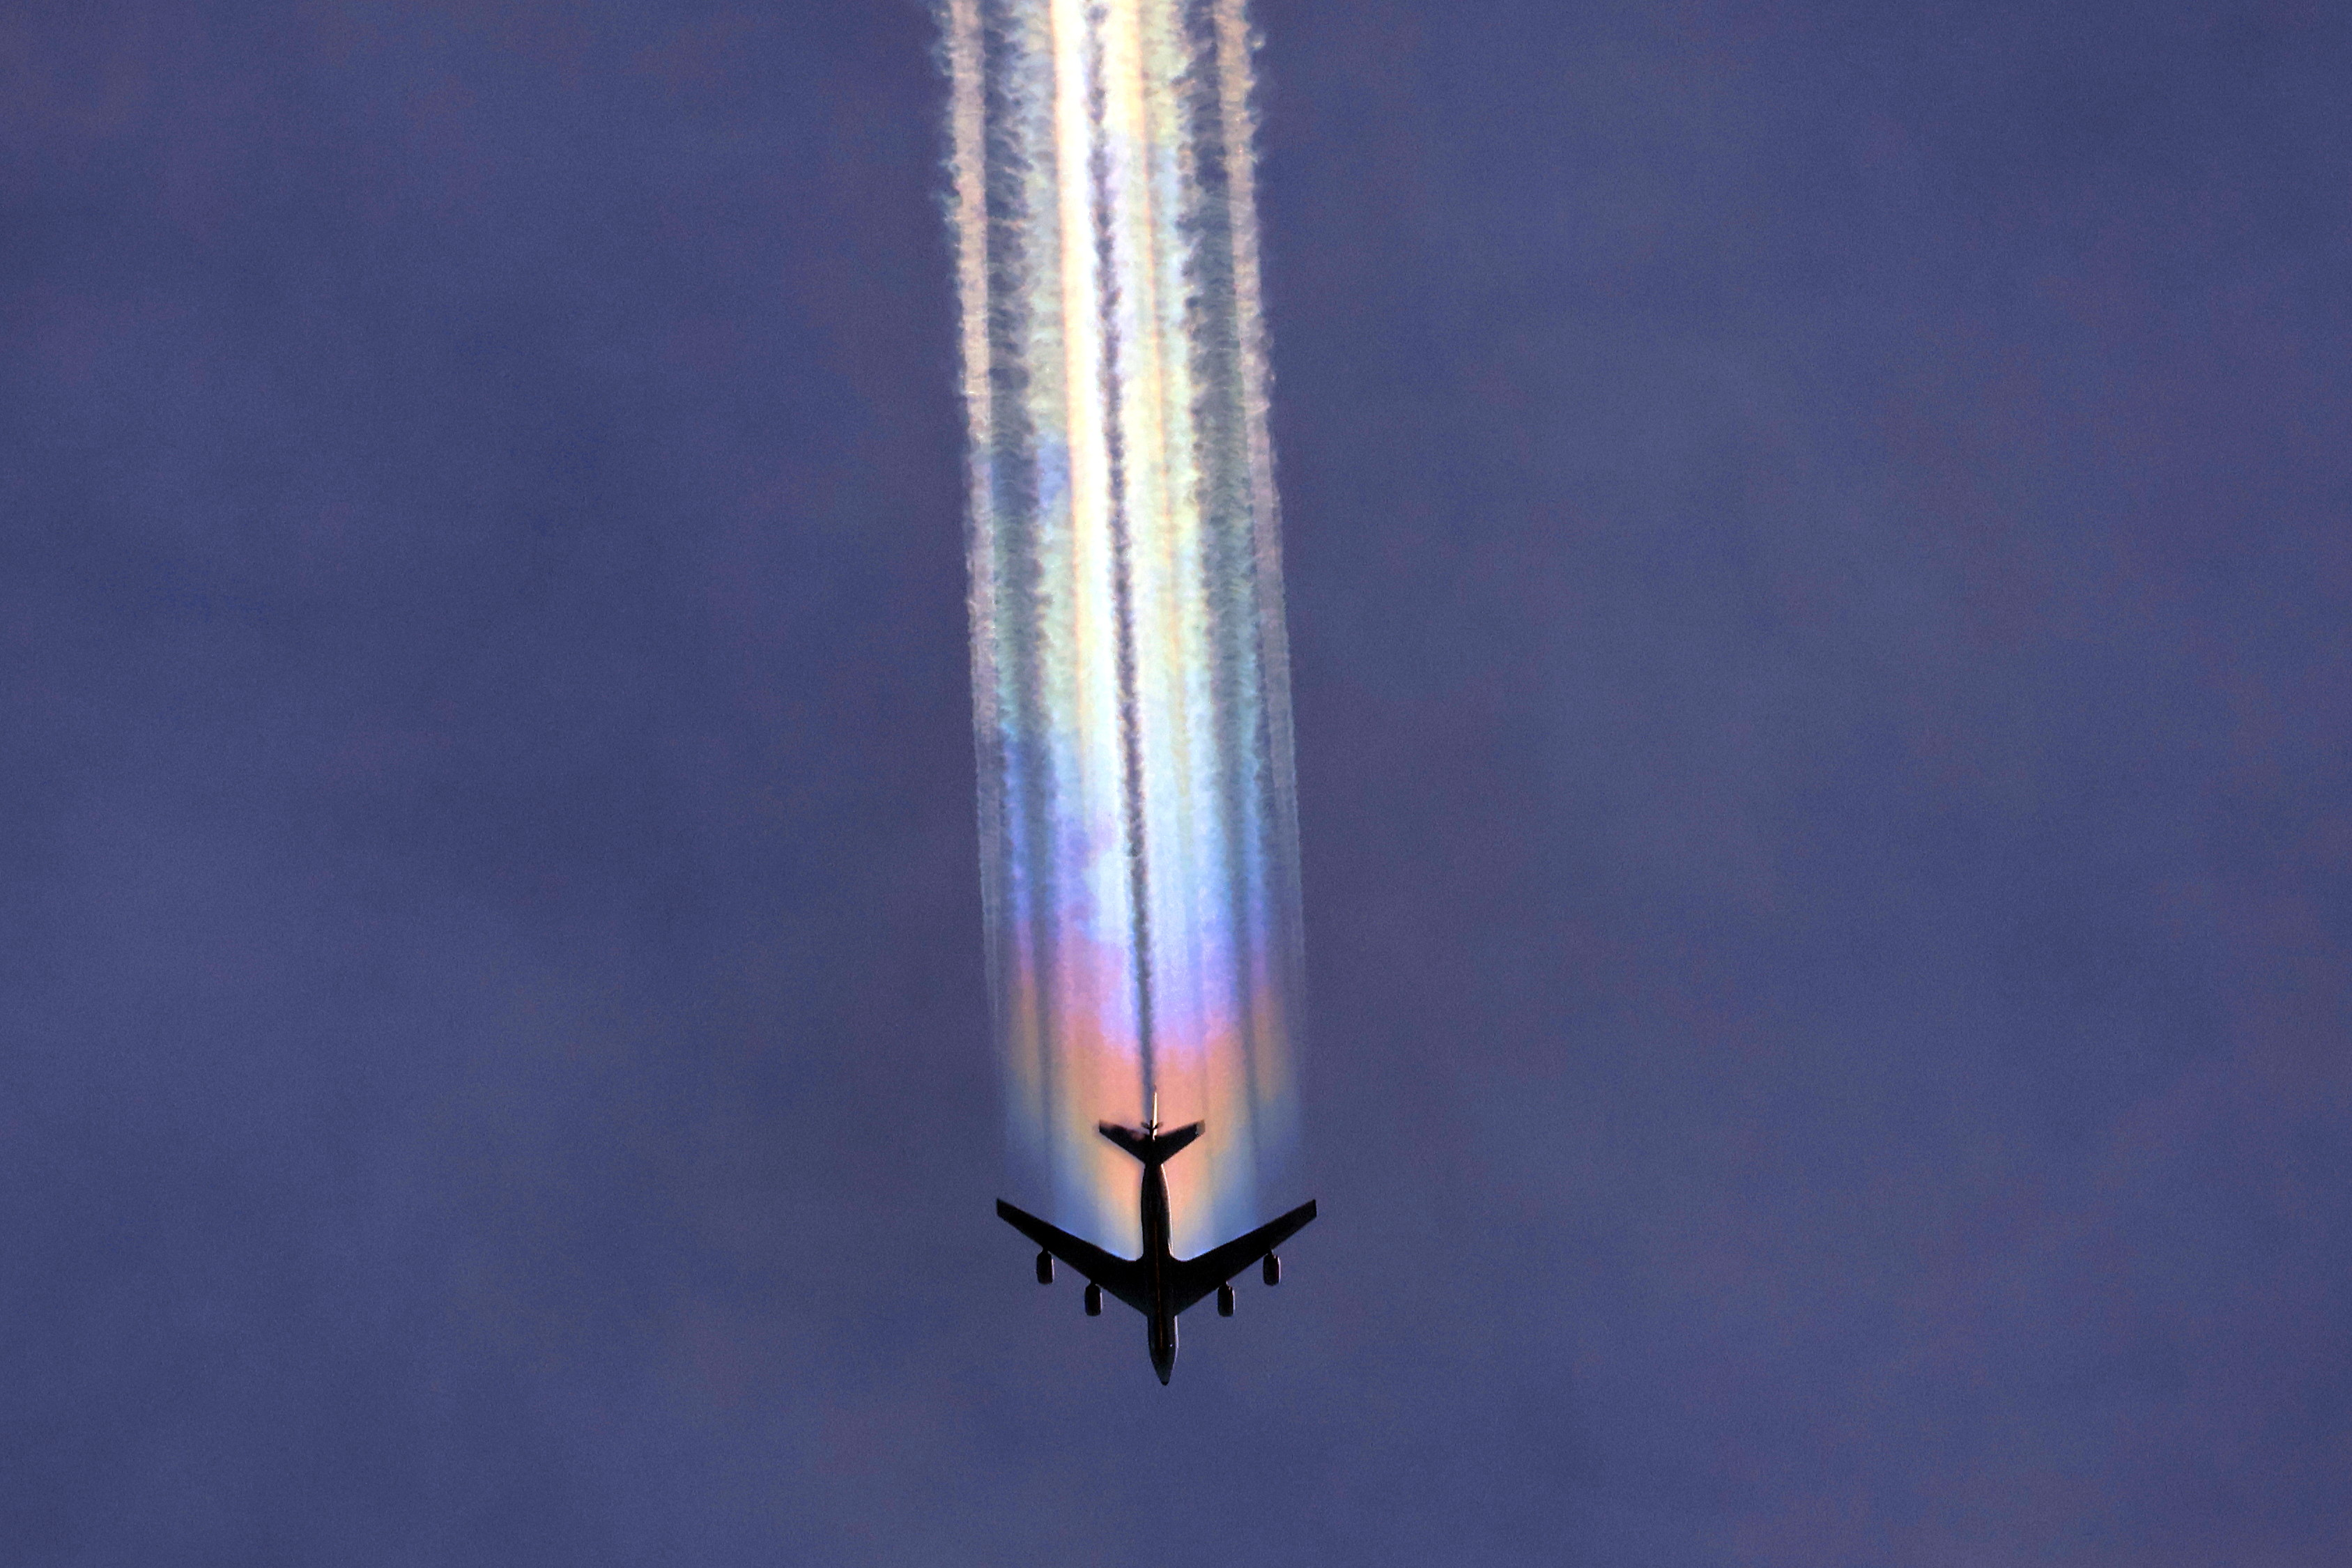airplane: (996, 1081, 1318, 1386)
